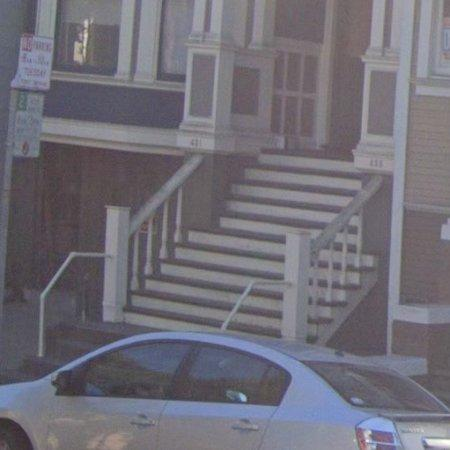stairs: (126, 155, 367, 338), (308, 211, 378, 345), (17, 324, 147, 378)
